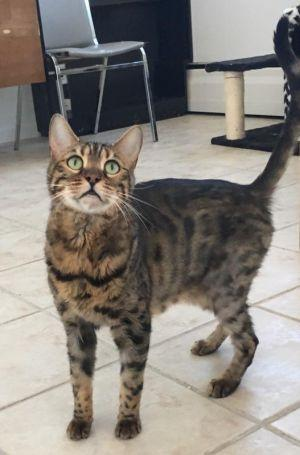bengal: (36, 102, 146, 222)
